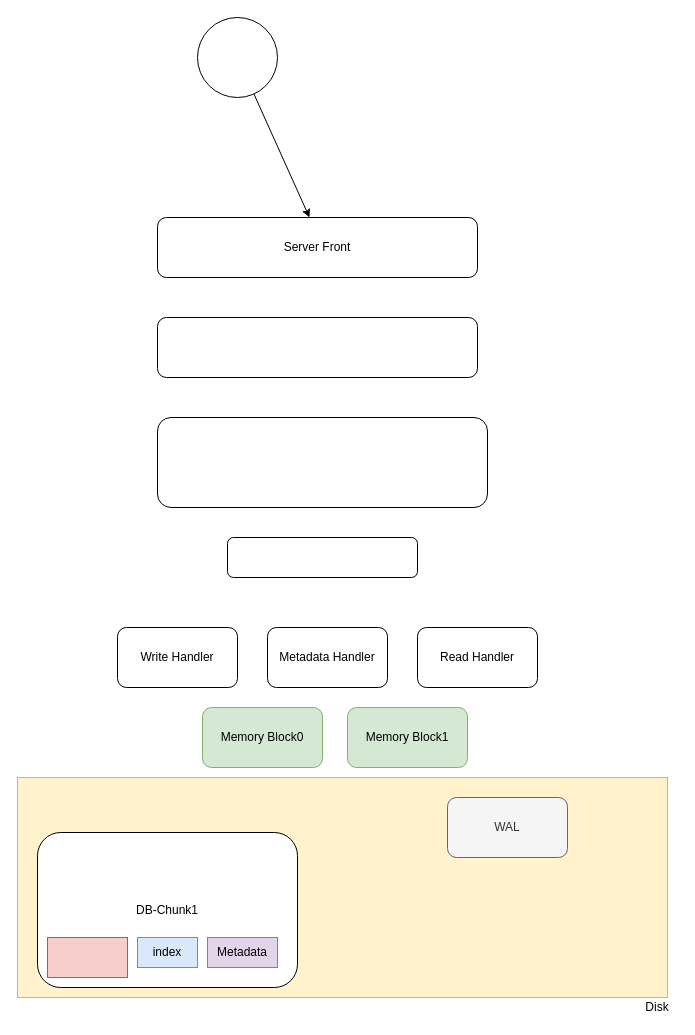
The diagram is 695 pixels wide and 1035 high, and some of its shapes have lost their labels. Here are the shapes that lost their labels. From the top down, the centre of each, then its label:
(237,57): Client
(317,347): Parser
(322,462): Coordinator
(322,557): Transaction Manager
(87,957): Data
